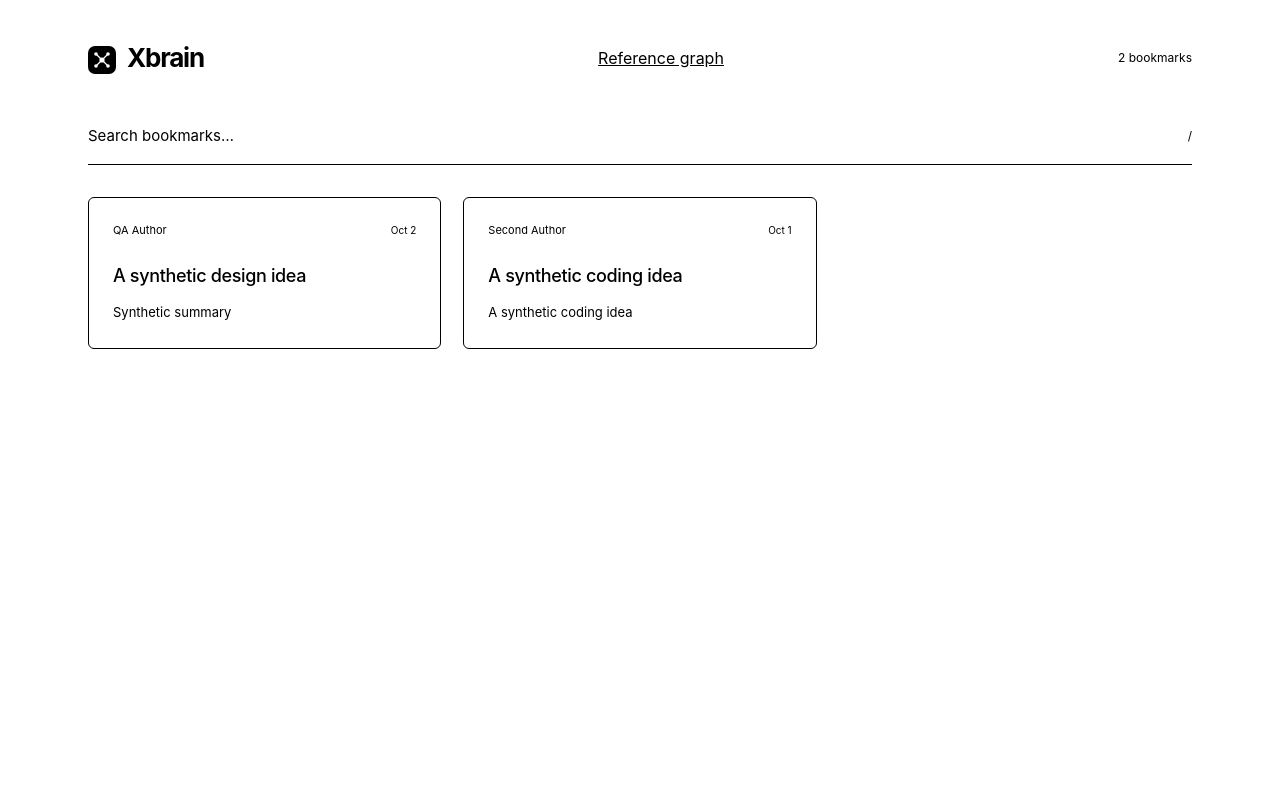
Read-only bookmark gallery › opens read-only details, closes them, and opens another bookmark
This screenshot has width=1280, height=800.
Click the button "QA Author Oct 2 A synthetic design idea Synthetic summary" at (265, 273), box [89,198,440,348]
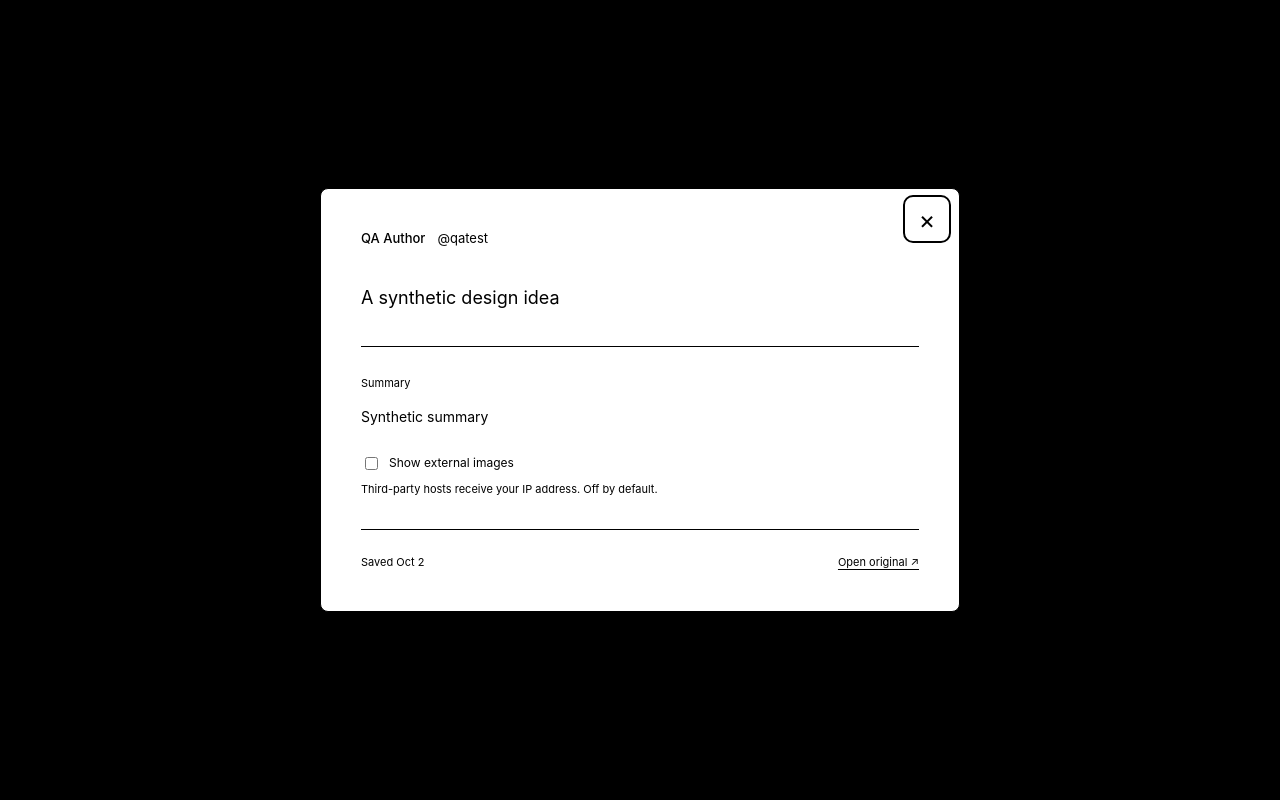
Expected: the text "A synthetic design idea" is shown, [361,287,560,308]
Expected: the text "Synthetic summary" is shown, [361,408,488,425]
Click the button named "Close dialog" at (927, 219), box [909,201,945,237]
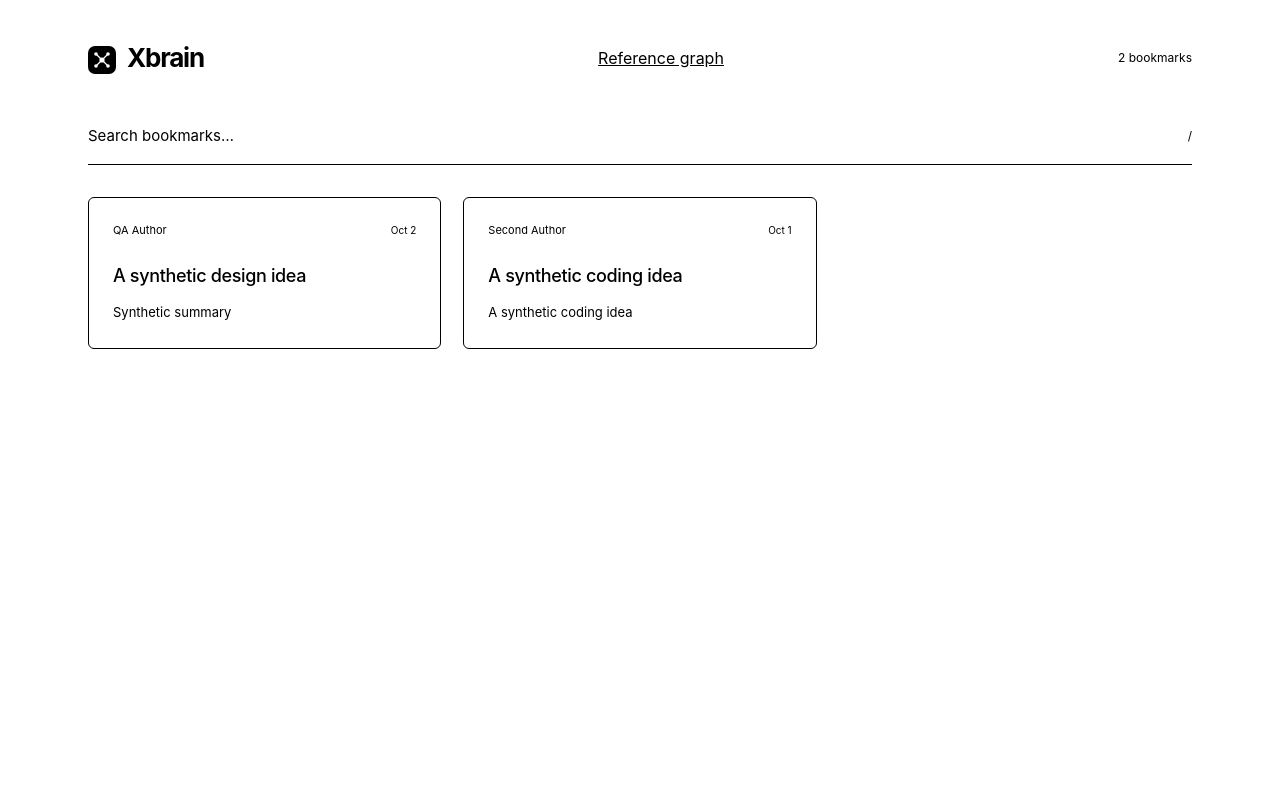
Expected: the dialog with id "detail-dialog" is gone
Click the button with aria-label "Read A synthetic coding idea" at (640, 273), box [464,198,816,348]
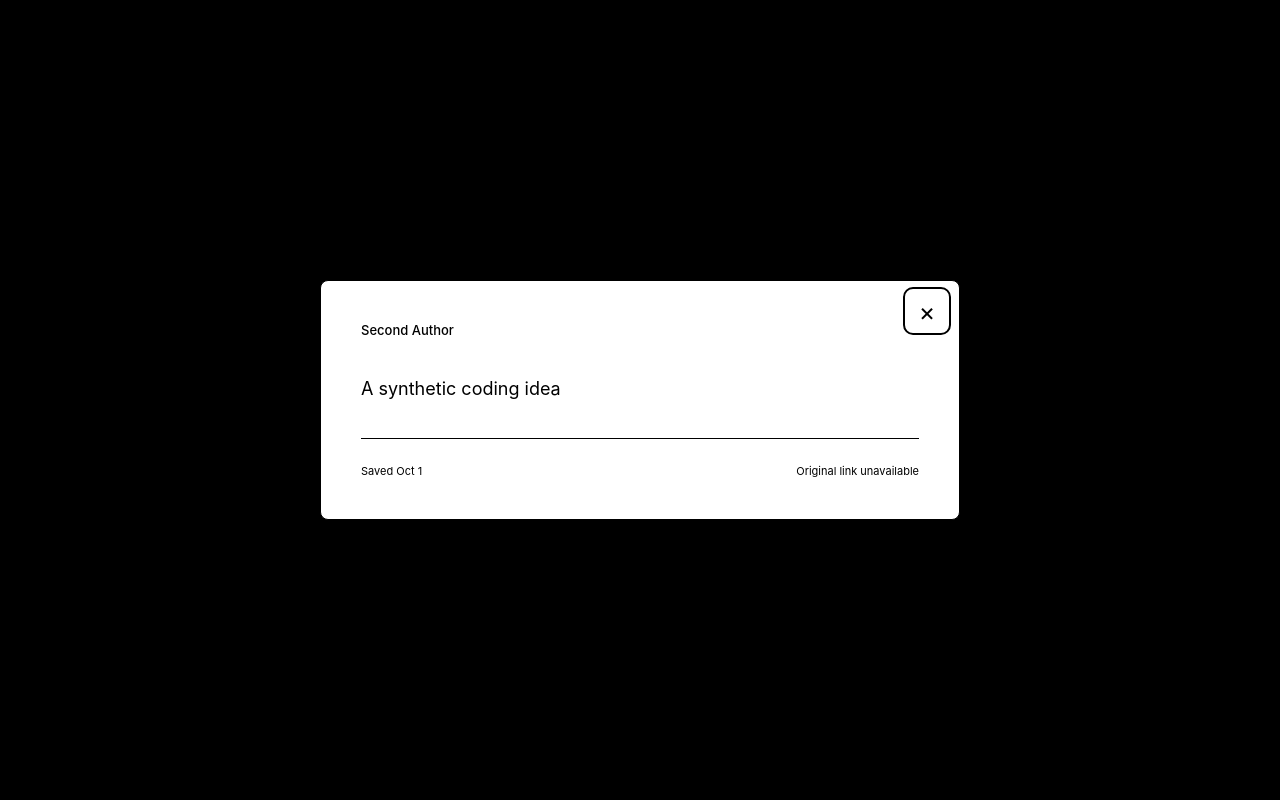
Expected: the text "A synthetic coding idea" is shown, [361,378,561,399]
